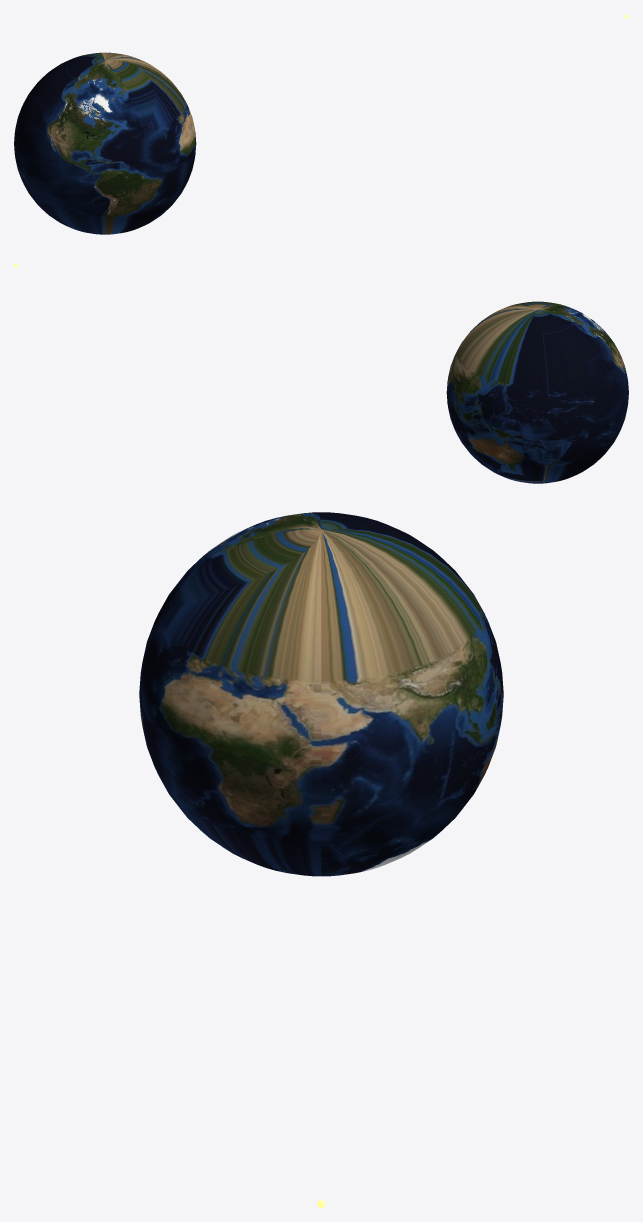
The model's file is space3d3-geostationary-altitude.glb.
3 renders of one model, top to bottom at view 1: azimuth 30°, elevation 25°; view 2: azimuth 150°, elevation 25°; view 3: azimuth 270°, elevation 25°, orthographic. The views are drawn at different scales.
Parts seen in each view (by area): view 1: Earth; view 2: Earth; view 3: Earth.
Part boxes in pixels (bbox=[...]): Earth: bbox=[14, 52, 196, 234]; Earth: bbox=[446, 301, 628, 483]; Earth: bbox=[139, 512, 503, 876].
Bounding box in the file's own units: 1.36 × 0.3565 × 0.3565.
2 materials, 1 textured.
